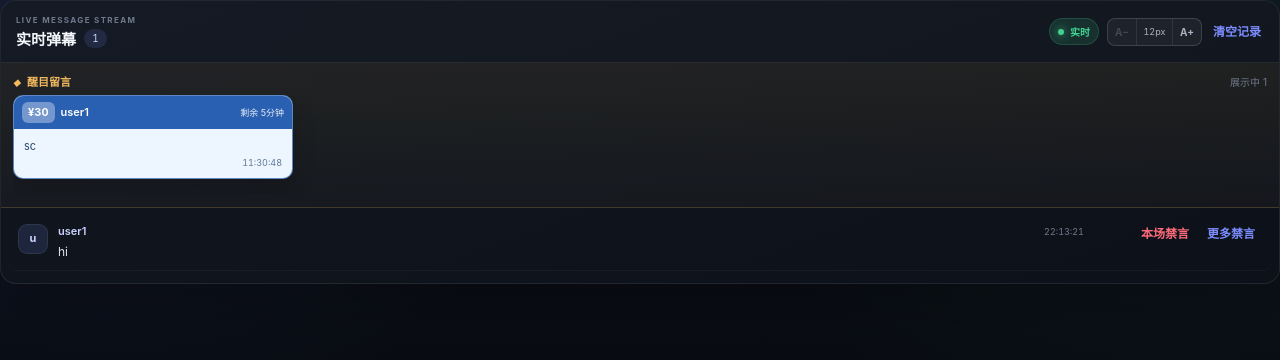
Test: DanmakuList.vue › clear button empties both lists
Expected: the number of elements with test id "danmaku-row" is 1, 9,215 -> 1271,271
Click the button with test id "clear-btn".
click(1237, 32)  # box 1210,22 -> 1264,40
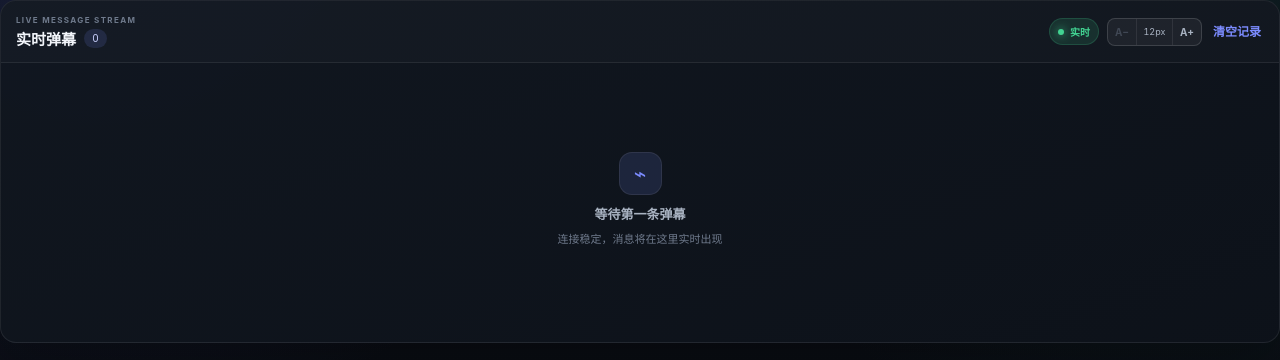
Now the element with test id "empty" is shown, box 558,152 -> 722,246
